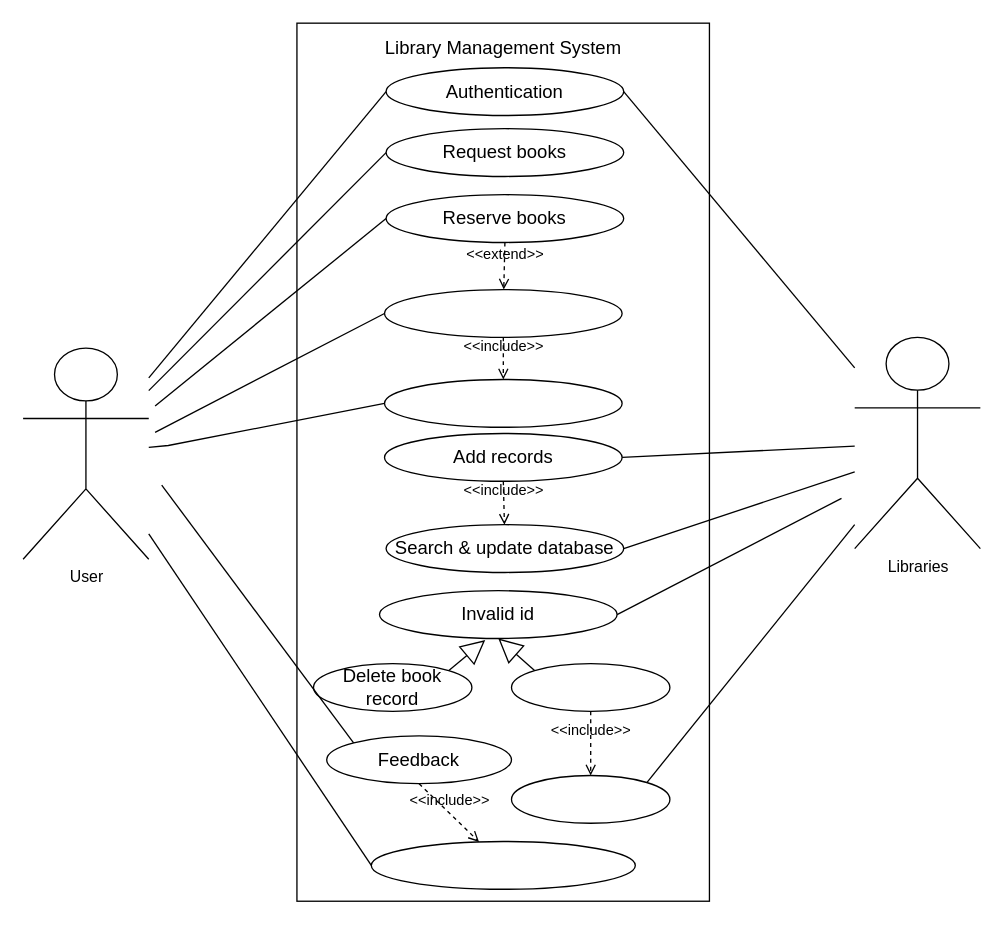
Some shapes in this 1005 by 925 pixel diagram are drawn without their labels. Here are the shapes that lost their labels. From the top down, the centre of each, then its label:
(x=502, y=312): Invalid renevable
(x=502, y=402): Pays fine
(x=590, y=686): Update book record
(x=590, y=798): Update record id
(x=502, y=864): Filling up feedback form
